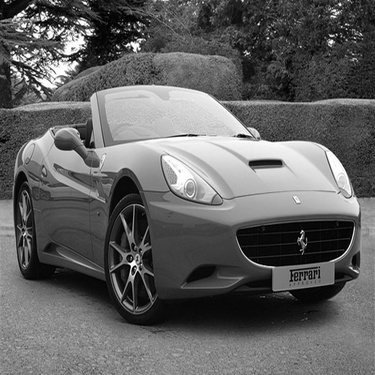car: (6, 79, 369, 329)
